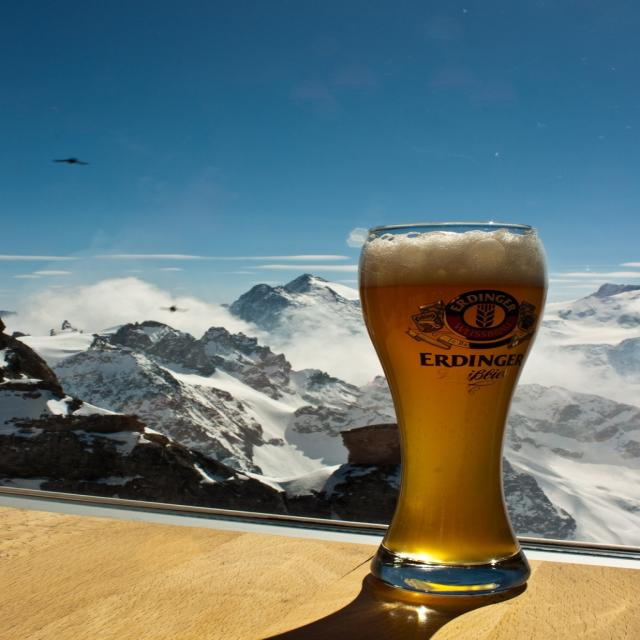erdinger: (402, 289, 545, 372)
